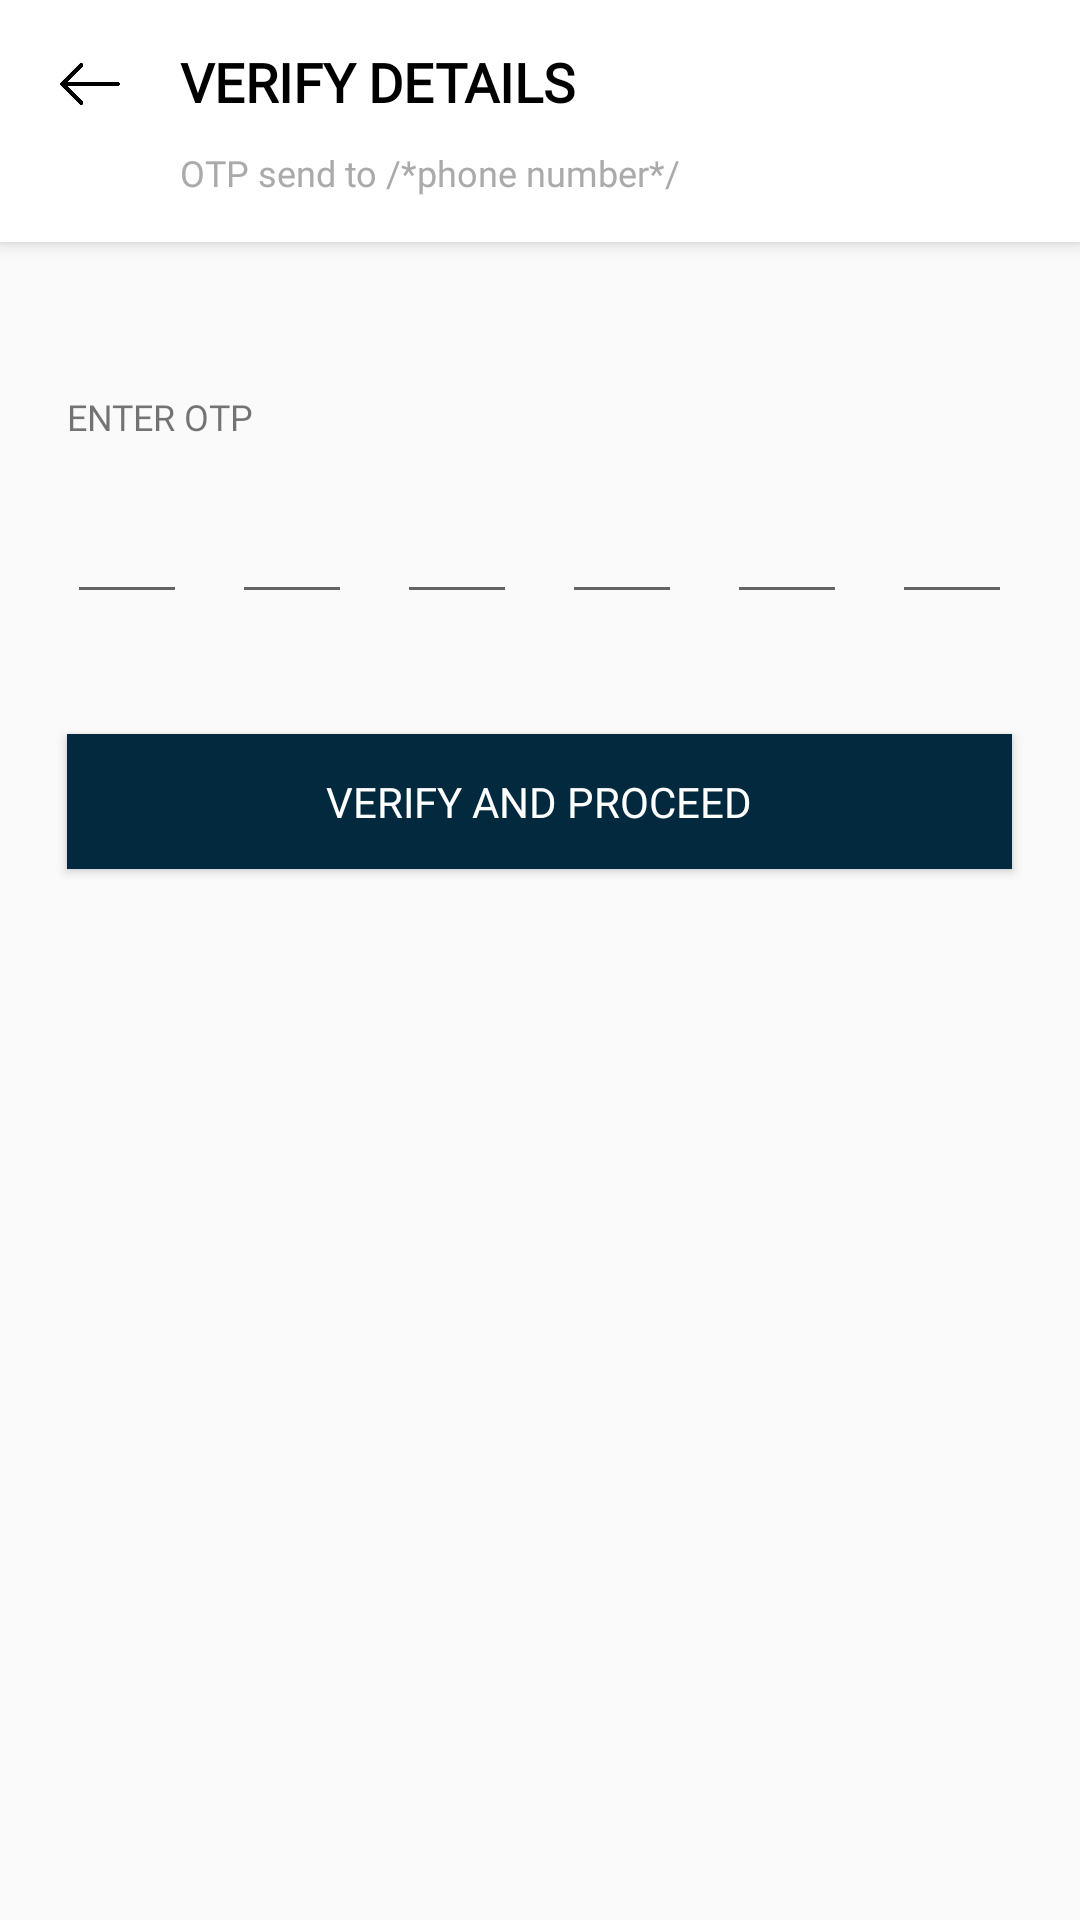

Icons on this 1080 x 1920 Android screen, each with the point to tap as (x,y):
left arrow: (90,84)
